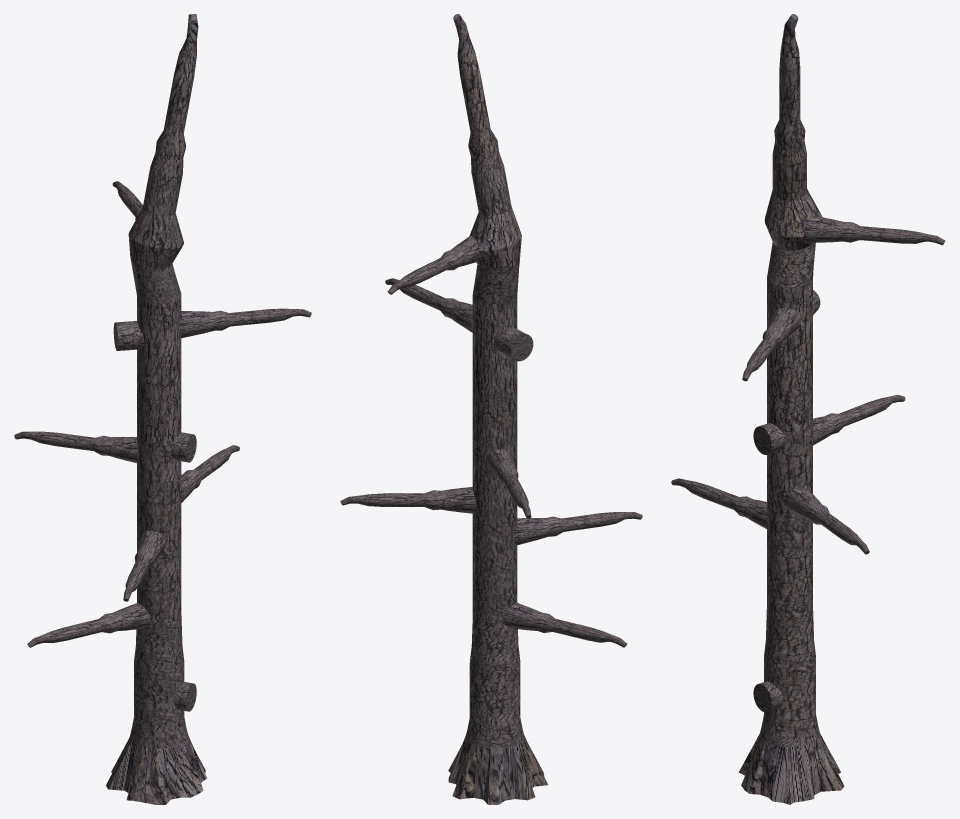
Rendered from DeadTree.fbx.
The picture shows the model from 3 angles, left to right: view 1: azimuth 30°, elevation 25°; view 2: azimuth 150°, elevation 25°; view 3: azimuth 270°, elevation 25°; orthographic projection. The views are drawn at different scales.
Parts seen in each view (by area): view 1: Cylinder; view 2: Cylinder; view 3: Cylinder.
Part boxes in pixels (x1,y1,x2,y2): Cylinder: (14, 14, 311, 804); Cylinder: (340, 14, 642, 804); Cylinder: (671, 14, 945, 804).
Bounding box in the file's own units: 2106 × 5831 × 1846.
